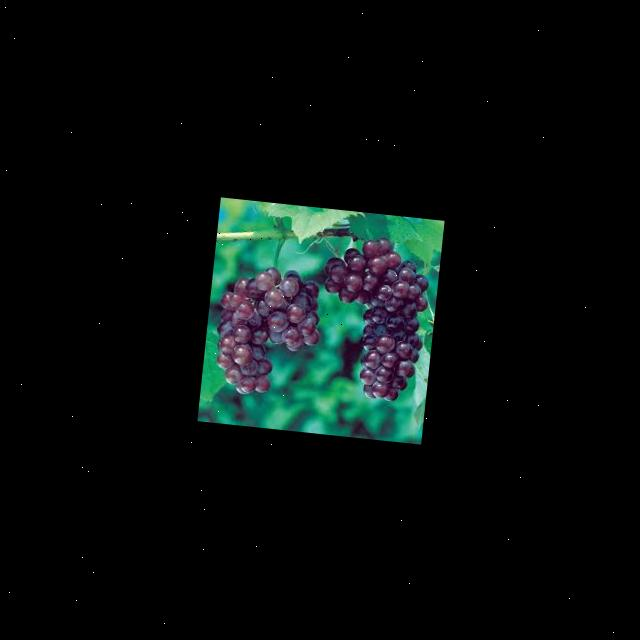grape: (310, 230, 433, 403), (208, 260, 324, 400)
